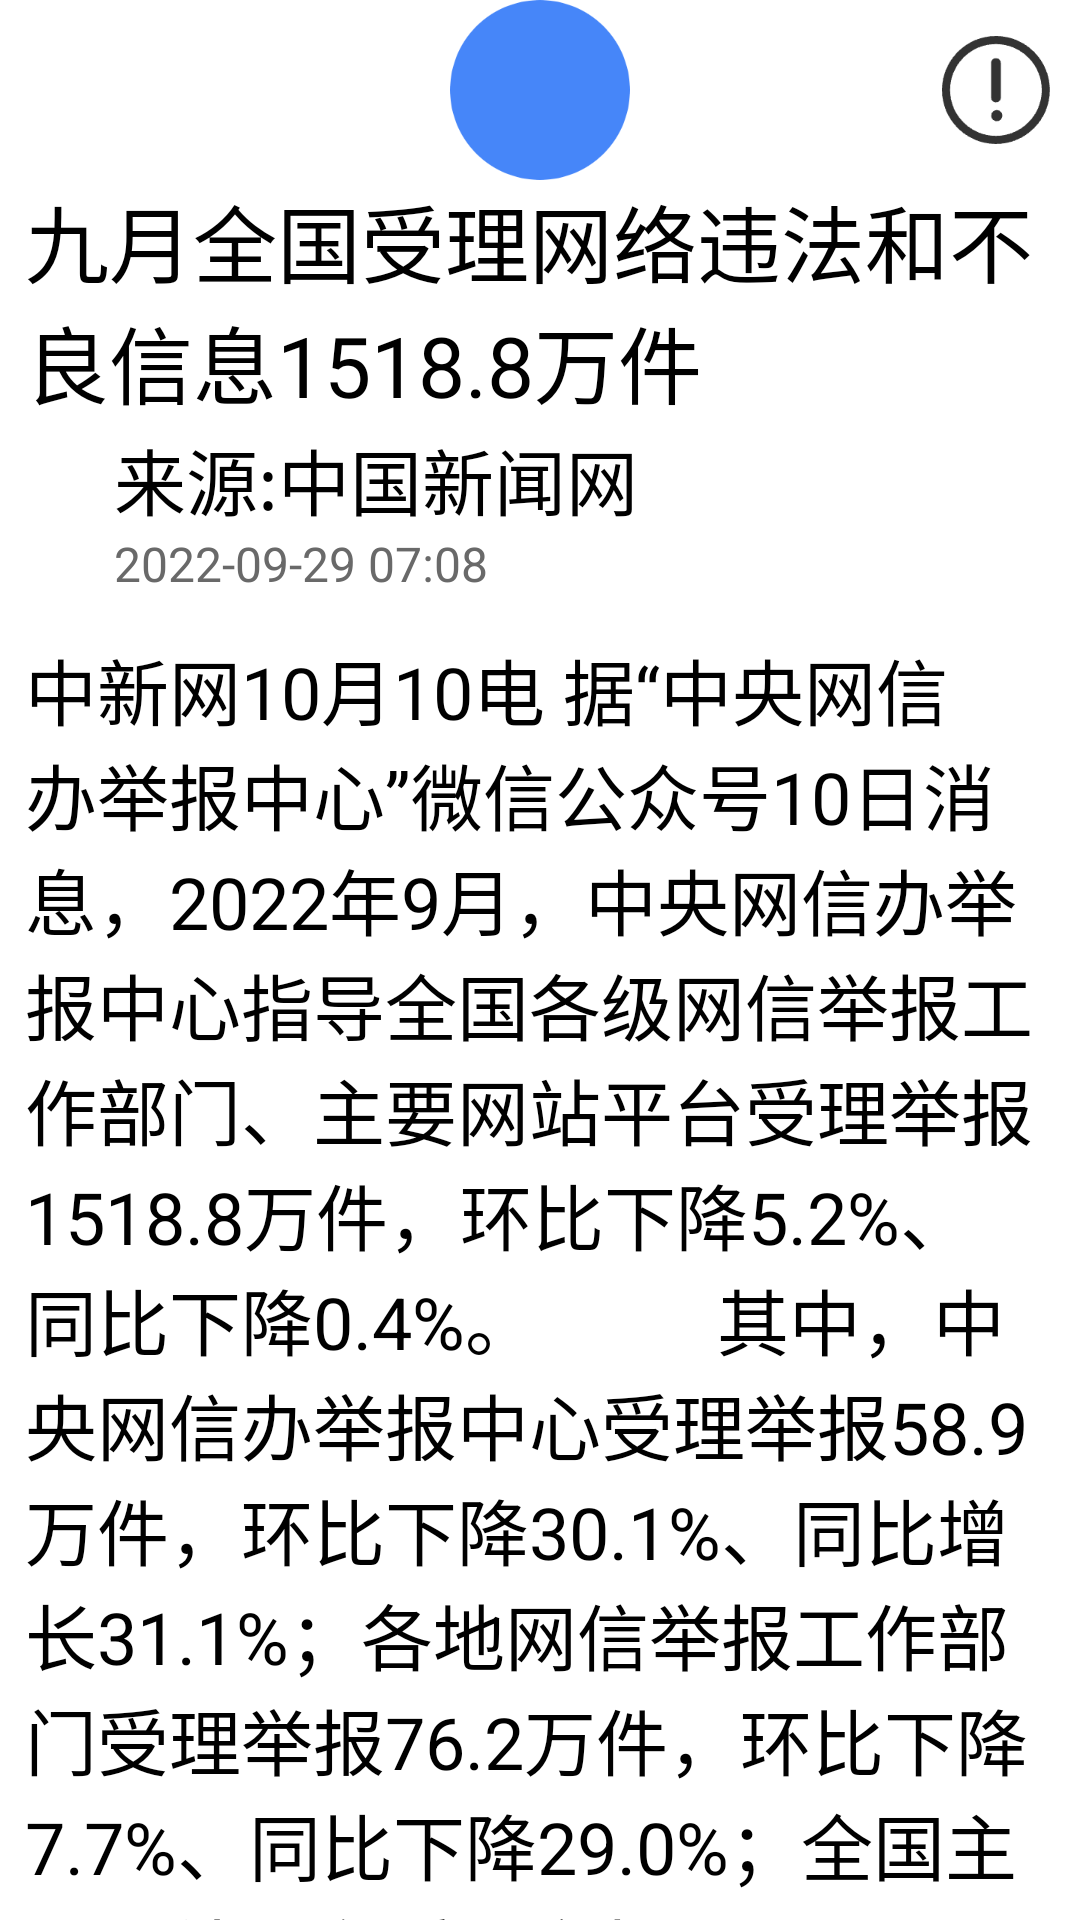

Icon click points for this 1080px×1920px phone screenshot, format [x,y]:
report: [996,90]
